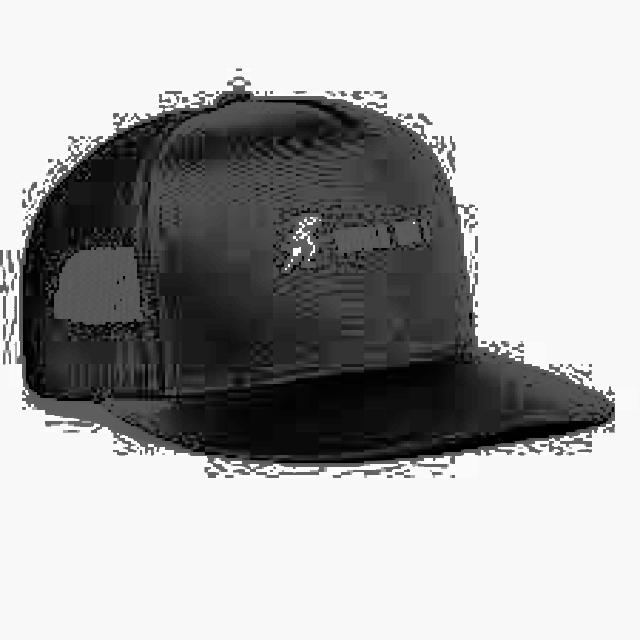TOPI: (14, 82, 623, 464)
